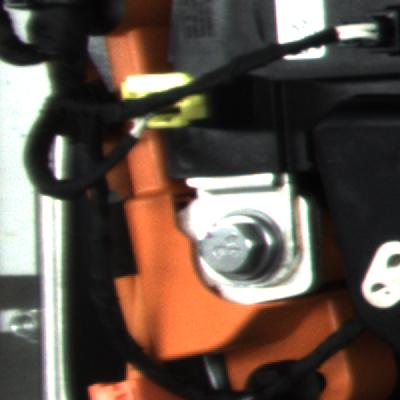nut_b: (188, 201, 294, 291)
